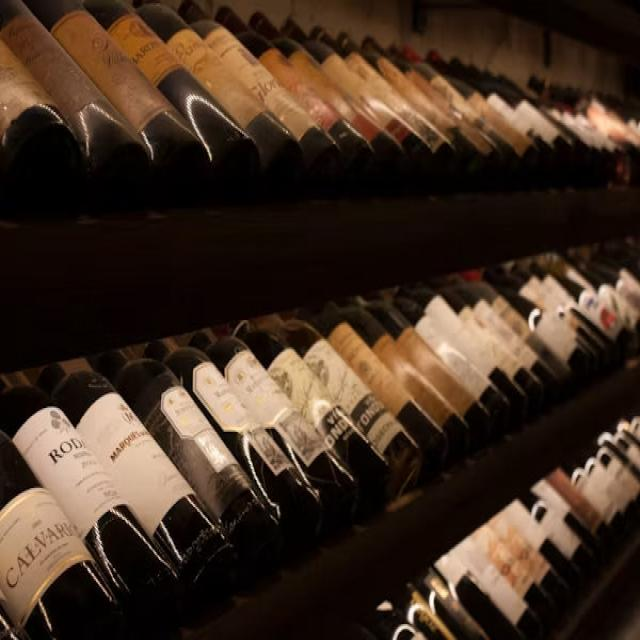Bottle: (39, 364, 235, 588), (92, 352, 281, 579), (0, 386, 177, 614), (146, 341, 322, 555), (26, 0, 209, 188), (85, 0, 259, 187), (206, 336, 358, 534), (235, 322, 390, 516), (138, 4, 303, 183), (0, 0, 150, 196), (269, 319, 422, 497), (217, 7, 373, 179), (0, 432, 123, 639), (303, 303, 447, 479), (250, 12, 403, 175), (191, 20, 341, 180), (312, 28, 457, 180), (340, 306, 470, 463), (363, 37, 498, 185), (360, 37, 494, 179), (366, 301, 491, 449), (400, 288, 526, 428), (403, 47, 527, 185), (301, 39, 430, 169), (387, 45, 505, 182), (446, 58, 566, 185), (429, 55, 541, 183), (439, 287, 543, 417), (456, 282, 570, 398), (486, 271, 605, 380), (453, 284, 562, 399), (0, 40, 79, 198), (509, 263, 620, 371), (435, 538, 542, 639), (416, 332, 509, 438), (492, 285, 589, 382), (544, 255, 637, 356), (466, 524, 556, 628), (488, 509, 569, 623), (500, 500, 581, 604), (531, 468, 607, 571), (522, 490, 597, 579), (572, 256, 639, 355), (533, 468, 610, 548), (410, 568, 488, 639), (584, 447, 639, 531), (586, 440, 639, 521), (571, 458, 625, 537), (396, 584, 456, 639), (363, 600, 423, 639), (598, 432, 639, 478), (613, 424, 639, 470), (0, 607, 29, 639), (346, 623, 376, 639)
